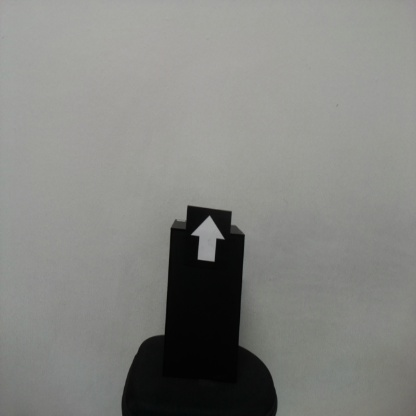id_1: (187, 210, 231, 273)
